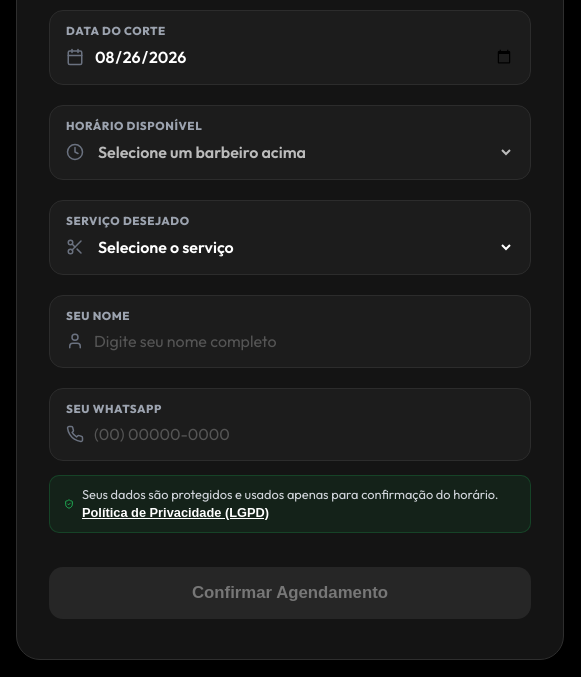
Agendamento Component (TDD) › deve formatar o WhatsApp automaticamente enquanto o usuário digita
(page scrolled)
Type "75991309594" into the field with placeholder "(00) 00000-0000" at [304, 434], box [94,420,514,448]
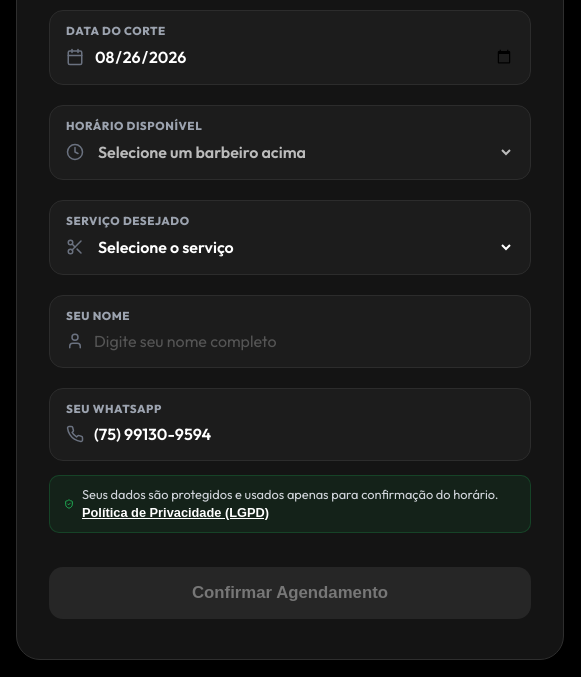
Expected: the field with placeholder "(00) 00000-0000" holds "(75) 99130-9594", [94,420,514,448]
